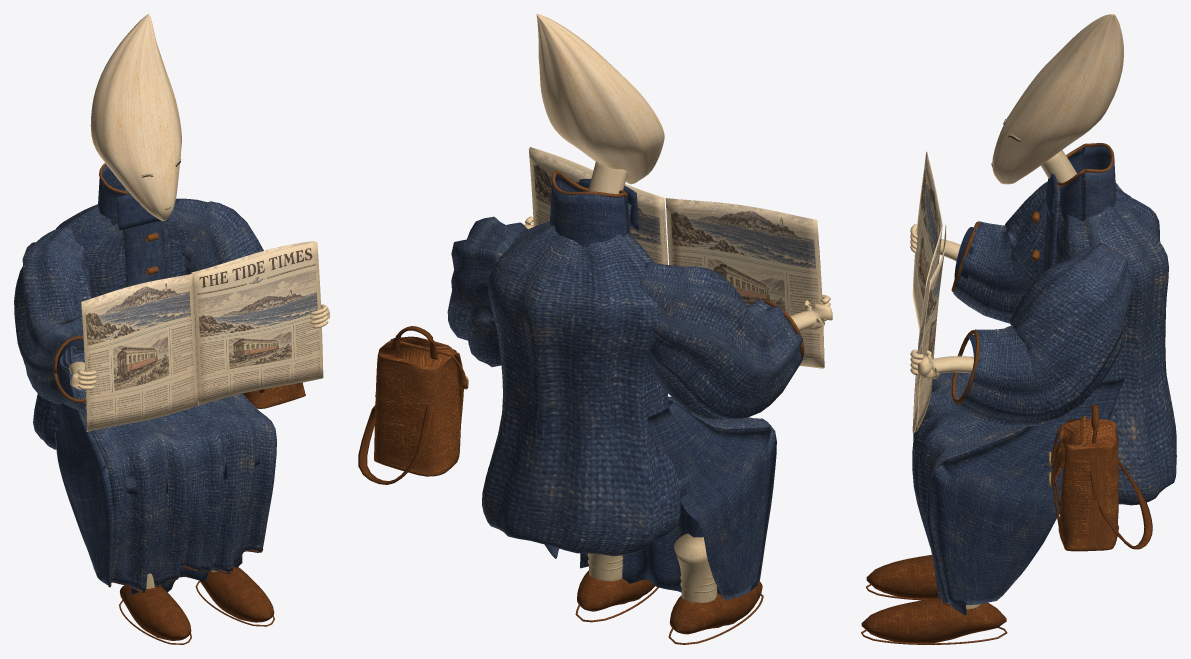
Rendered from newspaper-reader.glb.
3 renders of one model, left to right at view 1: azimuth 30°, elevation 25°; view 2: azimuth 150°, elevation 25°; view 3: azimuth 270°, elevation 25°, orthographic. The views are drawn at different scales.
Parts seen in each view (by area): view 1: ReaderBodyMesh, ReaderPaperMesh, ReaderHeadMesh, ReaderStaticMesh, ReaderTurnPageMesh, ReaderLeftHandMesh; view 2: ReaderBodyMesh, ReaderStaticMesh, ReaderPaperMesh, ReaderHeadMesh, ReaderTurnPageMesh, ReaderLeftHandMesh; view 3: ReaderBodyMesh, ReaderStaticMesh, ReaderHeadMesh, ReaderPaperMesh, ReaderTurnPageMesh, ReaderRightHandMesh, ReaderLeftHandMesh.
Part boxes in pixels (x1,y1,x2,y2): ReaderBodyMesh: (14,163,276,594); ReaderPaperMesh: (81,242,323,431); ReaderHeadMesh: (90,14,181,220); ReaderStaticMesh: (119,382,305,644); ReaderTurnPageMesh: (191,241,314,403); ReaderLeftHandMesh: (69,361,96,389); ReaderBodyMesh: (447,170,804,600); ReaderStaticMesh: (358,326,763,644); ReaderPaperMesh: (529,147,824,368); ReaderHeadMesh: (536,14,664,193); ReaderTurnPageMesh: (529,149,665,264); ReaderLeftHandMesh: (790,294,832,330); ReaderBodyMesh: (912,143,1176,615); ReaderStaticMesh: (861,404,1152,644); ReaderHeadMesh: (991,14,1123,189); ReaderPaperMesh: (912,151,942,432); ReaderTurnPageMesh: (916,225,946,431); ReaderRightHandMesh: (910,349,973,378); ReaderLeftHandMesh: (910,224,960,261).
Size of the model in its own units: 1.02 by 1.72 by 0.8004.
1 material, 1 textured.
